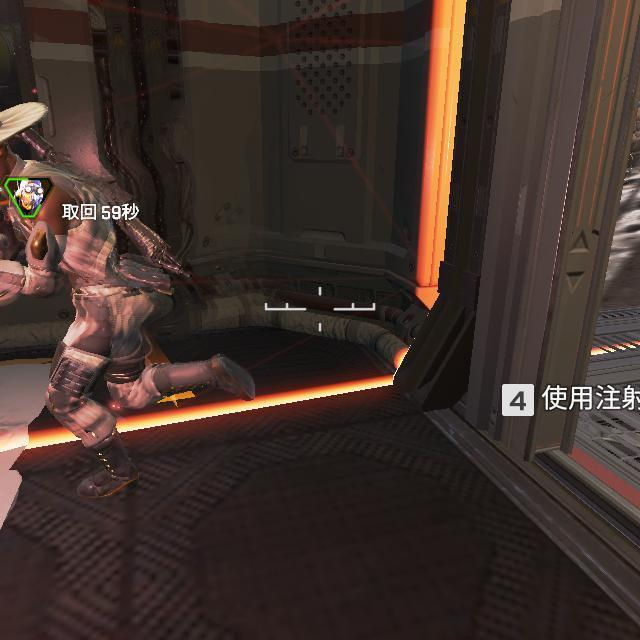avatar: (0, 97, 177, 503)
